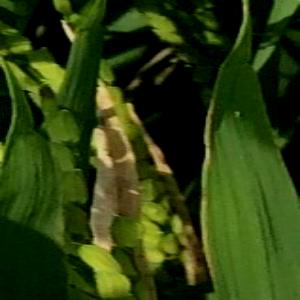2 BacterialBlight: (198, 89, 291, 300)
